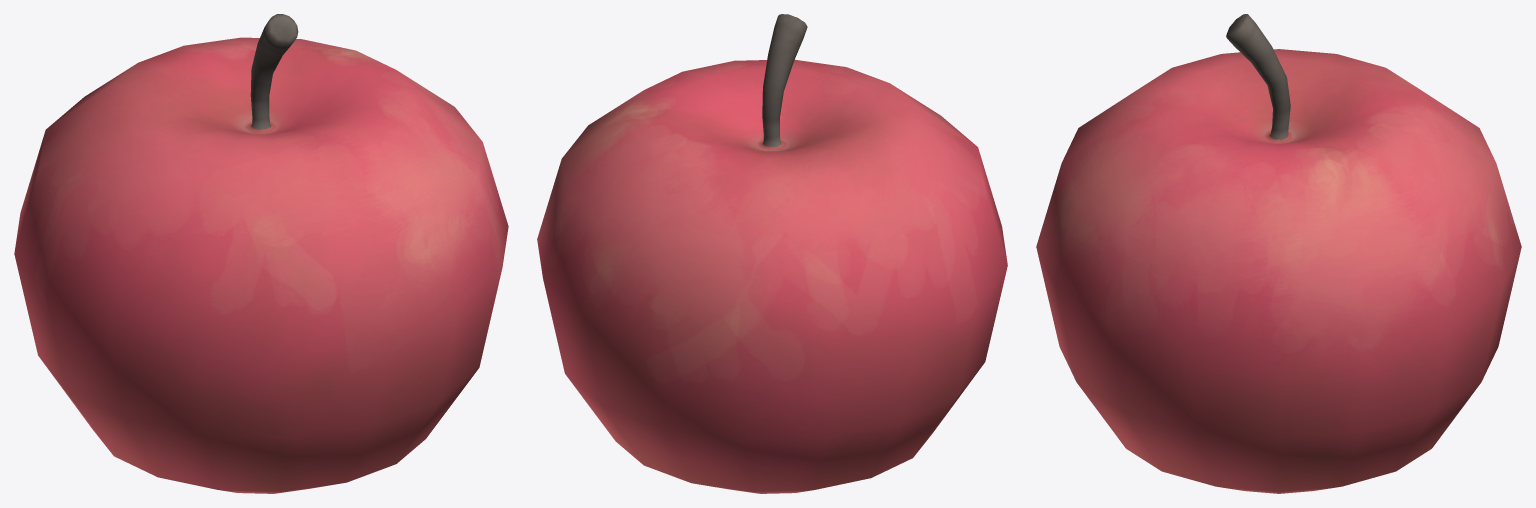
Rendered from apple.glb.
3 views of the same model, side by side, from view 1: azimuth 30°, elevation 25°; view 2: azimuth 150°, elevation 25°; view 3: azimuth 270°, elevation 25° (orthographic). The views are drawn at different scales.
Parts seen in each view (by area): view 1: RedApple; view 2: RedApple; view 3: RedApple.
Part boxes in pixels (bbox=[...]): RedApple: bbox=[14, 14, 508, 493]; RedApple: bbox=[537, 14, 1007, 493]; RedApple: bbox=[1036, 14, 1521, 493].
Bounding box in the file's own units: 1.3 × 1.3 × 1.3.
Materials: 1 (1 with a texture image).
